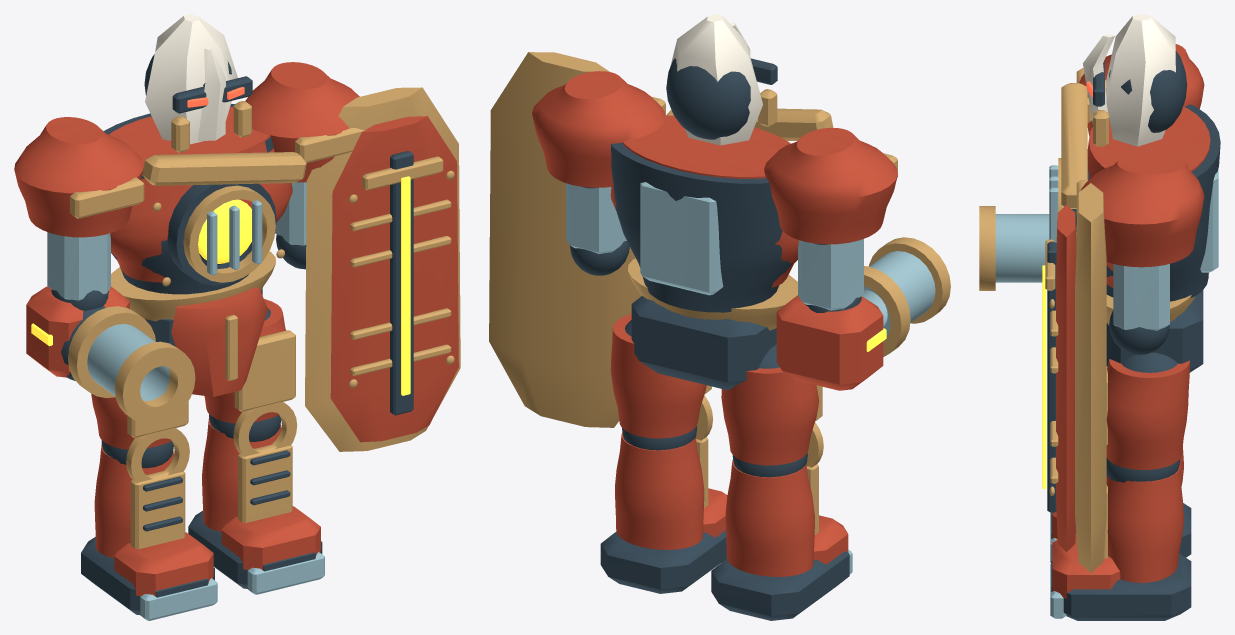
The model's file is ArcWarden.glb.
3 renders of one model, left to right at view 1: azimuth 30°, elevation 25°; view 2: azimuth 150°, elevation 25°; view 3: azimuth 270°, elevation 25°, orthographic. The views are drawn at different scales.
Visible parts, largest first — view 1: Shield_R, Torso, Leg_R, Leg_L, Arm_L, Cannon_L, Pelvis, Head, Arm_R; view 2: Shield_R, Torso, Leg_L, Leg_R, Arm_L, Arm_R, Cannon_L, Pelvis, Head; view 3: Leg_R, Shield_R, Arm_R, Torso, Head, Cannon_L, Pelvis, Arm_L, Leg_L.
Part boxes in pixels (box(x1,y1,x2,y2)): Shield_R: box(305, 87, 460, 451); Torso: box(103, 104, 306, 294); Leg_R: box(188, 299, 324, 594); Leg_L: box(81, 393, 217, 620); Arm_L: box(14, 117, 144, 310); Cannon_L: box(26, 286, 195, 425); Pelvis: box(111, 251, 275, 396); Head: box(144, 14, 252, 152); Arm_R: box(245, 62, 364, 269); Shield_R: box(489, 52, 641, 427); Torso: box(610, 108, 833, 312); Leg_L: box(711, 344, 852, 620); Leg_R: box(600, 314, 727, 593); Arm_L: box(764, 127, 897, 312); Arm_R: box(532, 71, 665, 275); Cannon_L: box(776, 237, 950, 390); Pelvis: box(628, 258, 797, 390); Head: box(666, 14, 777, 145); Leg_R: box(1050, 352, 1191, 620); Shield_R: box(1042, 183, 1106, 572); Arm_R: box(1076, 152, 1204, 354); Torso: box(1049, 83, 1220, 301); Head: box(1083, 14, 1187, 146); Cannon_L: box(979, 206, 1049, 290); Pelvis: box(1106, 290, 1203, 372); Arm_L: box(1076, 44, 1204, 136); Leg_L: box(1050, 447, 1191, 562).
Size of the model in its own units: 2.39 by 3.05 by 1.19.
